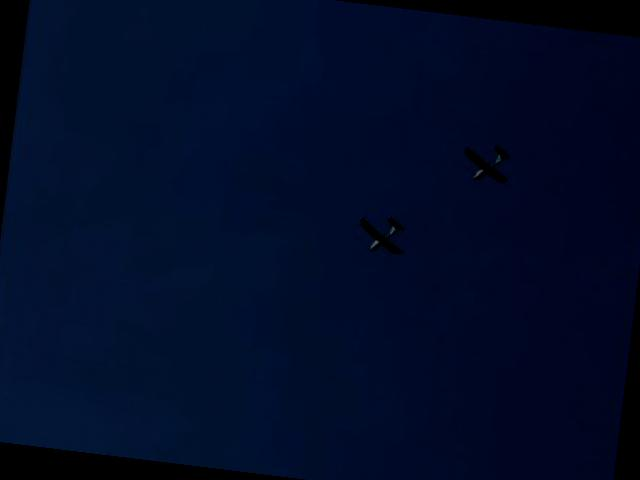uav: (356, 210, 406, 258), (462, 142, 512, 186)
